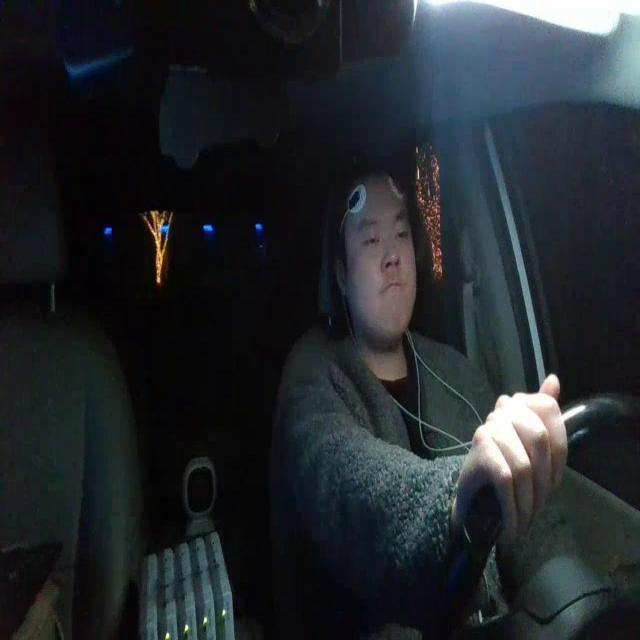Attentive: (330, 164, 421, 336)
